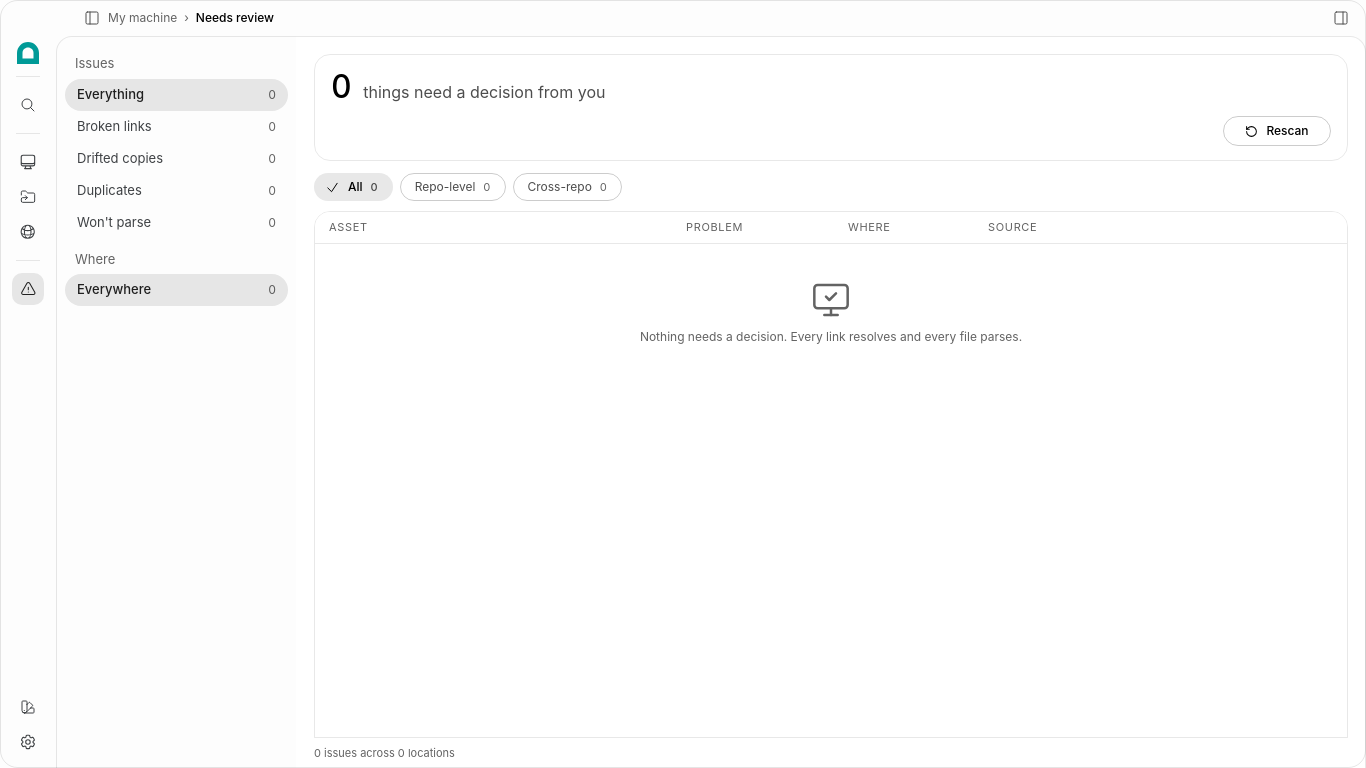
Test: Icon rail › the crumb's My machine is the same home button
Expected: the text "things need a decision from you" is shown, [363, 80, 605, 104]
Click the button "My machine": click(143, 18) [108, 9, 177, 27]
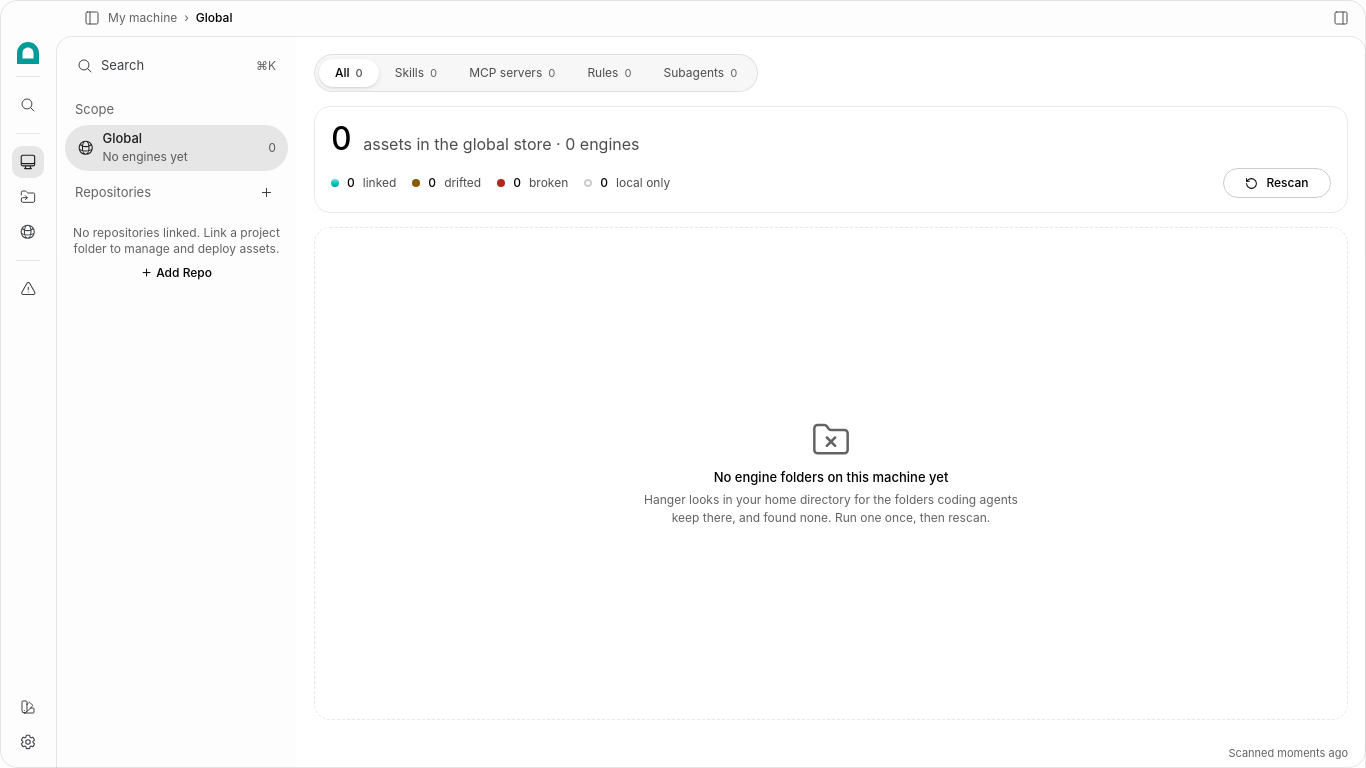
Expected: the element with test id "sidebar" is shown, [56, 36, 296, 767]
